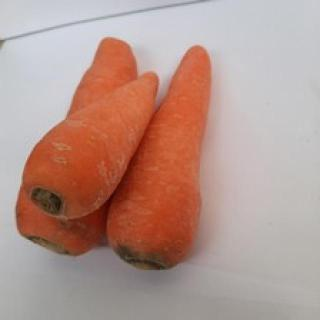carrot: (17, 37, 141, 259), (110, 44, 210, 274), (22, 68, 160, 220)
